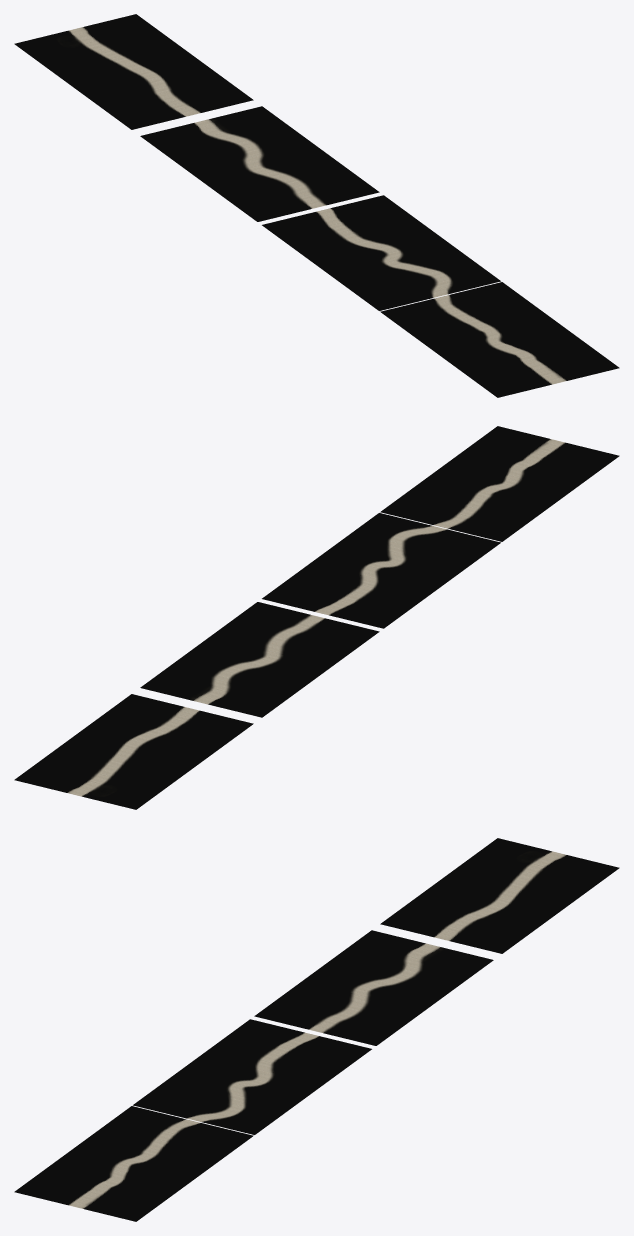
Rendered from tiles.glb.
The picture shows the model from 3 angles, top to bottom: view 1: azimuth 30°, elevation 25°; view 2: azimuth 150°, elevation 25°; view 3: azimuth 330°, elevation 25°; orthographic projection.
Parts seen in each view (by area): view 1: tile1-r, tile4-l, tile2-l, tile3-r; view 2: tile1-r, tile4-l, tile2-l, tile3-r; view 3: tile1-r, tile4-l, tile2-l, tile3-r.
Boxes of the visible parts, x1,y1,x2,y2 form: tile1-r: (380, 282, 619, 397); tile4-l: (14, 14, 253, 129); tile2-l: (262, 195, 500, 310); tile3-r: (140, 106, 379, 221); tile1-r: (380, 426, 619, 541); tile4-l: (14, 694, 253, 809); tile2-l: (262, 513, 500, 628); tile3-r: (140, 602, 379, 717); tile1-r: (14, 1106, 253, 1221); tile4-l: (380, 838, 619, 953); tile2-l: (133, 1019, 371, 1134); tile3-r: (254, 930, 493, 1045).
Size of the model in its own units: 60 by 0 by 411.
4 materials, 4 textured.
